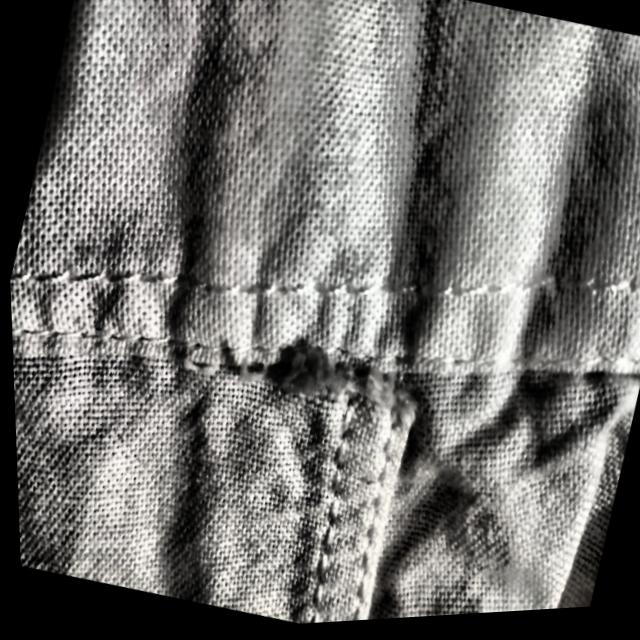Stitch: (125, 238, 476, 508)
